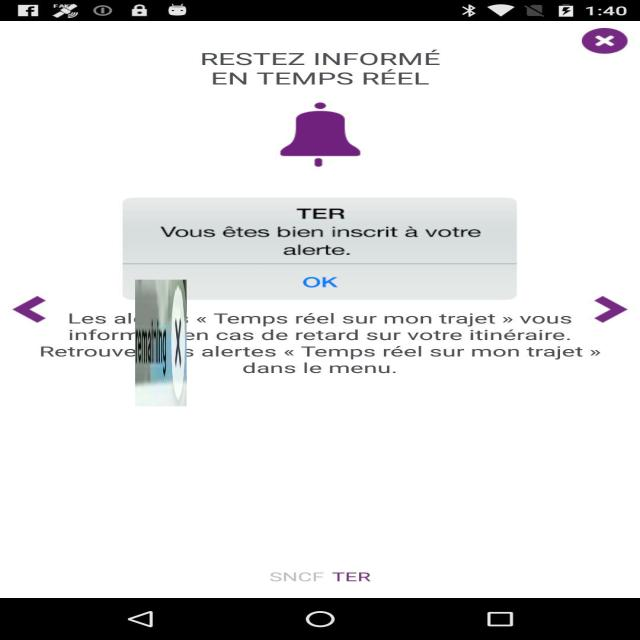misdirection: (135, 280, 187, 406)
